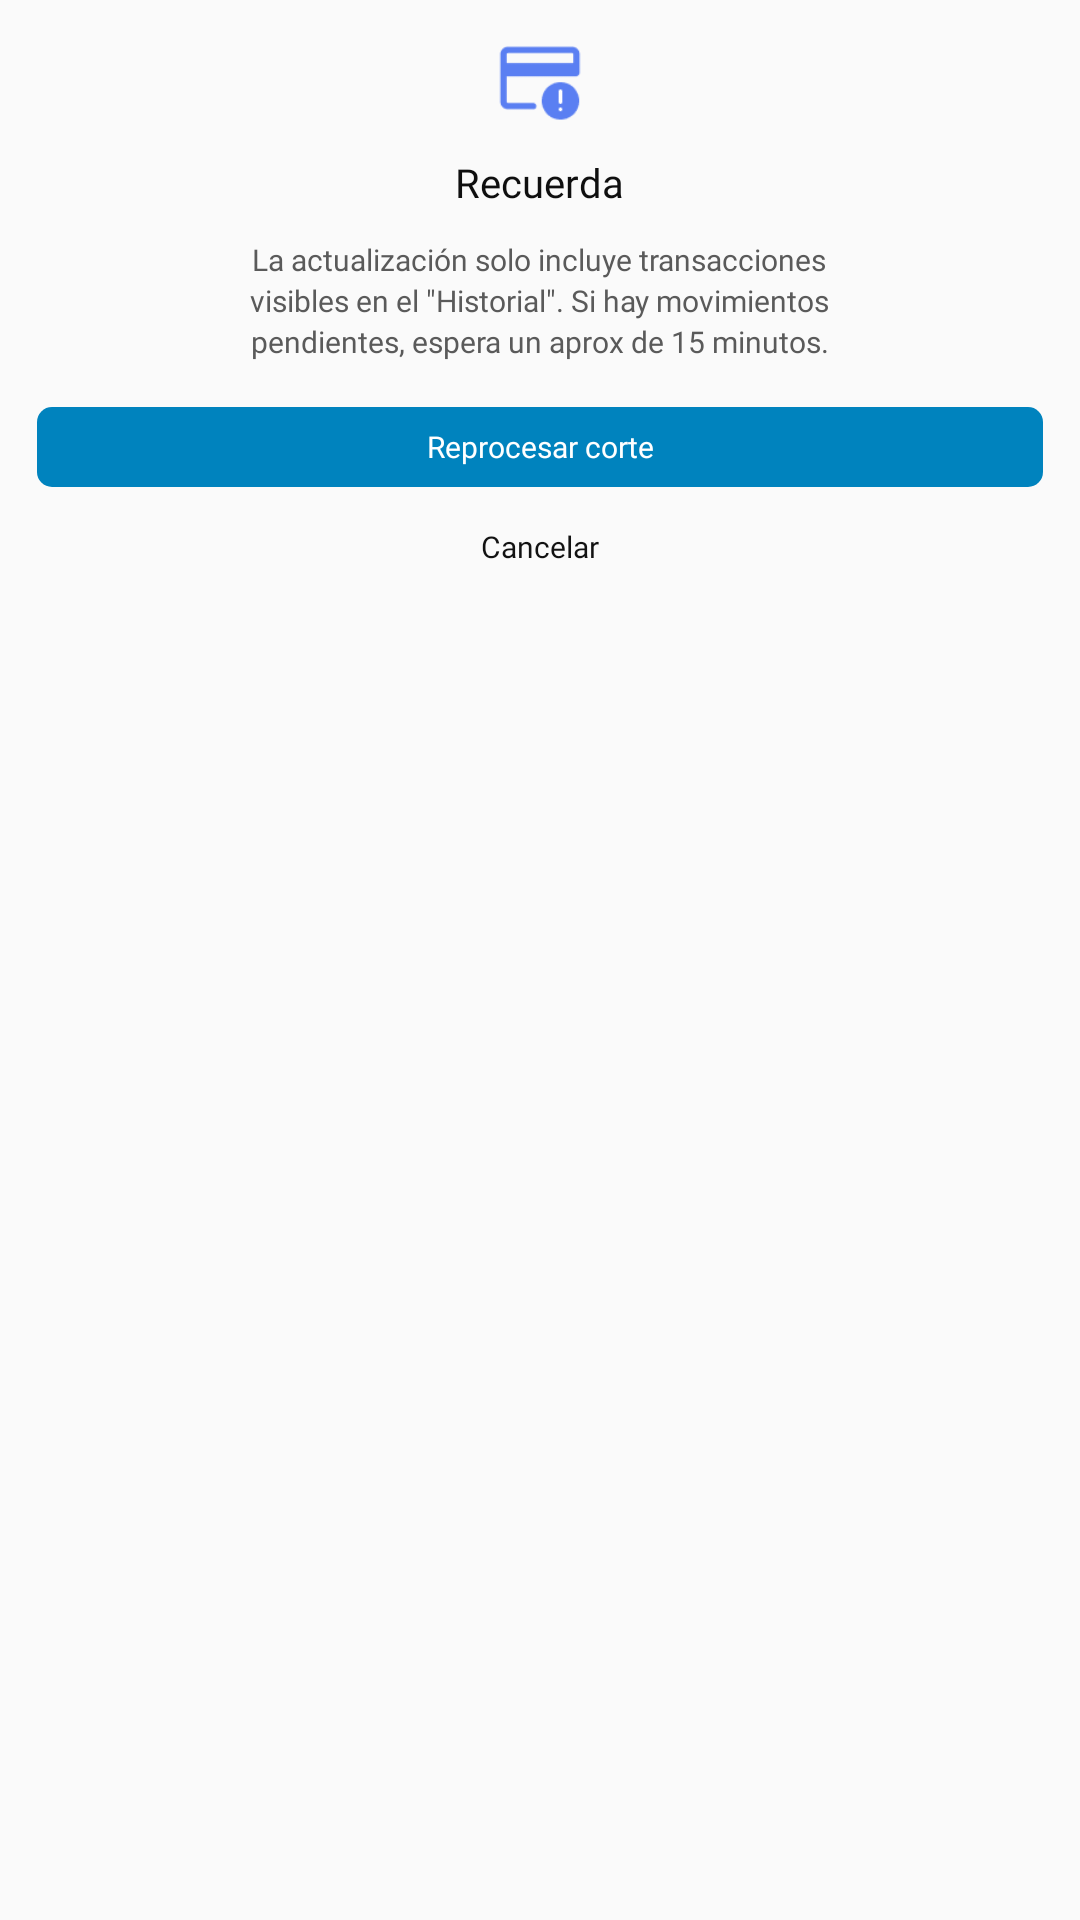

Named icons in this screenshot (1080 × 1920) and their bounding boxes, (x1, y1, x2, y2):
tarjeta: (500, 46, 580, 120)
